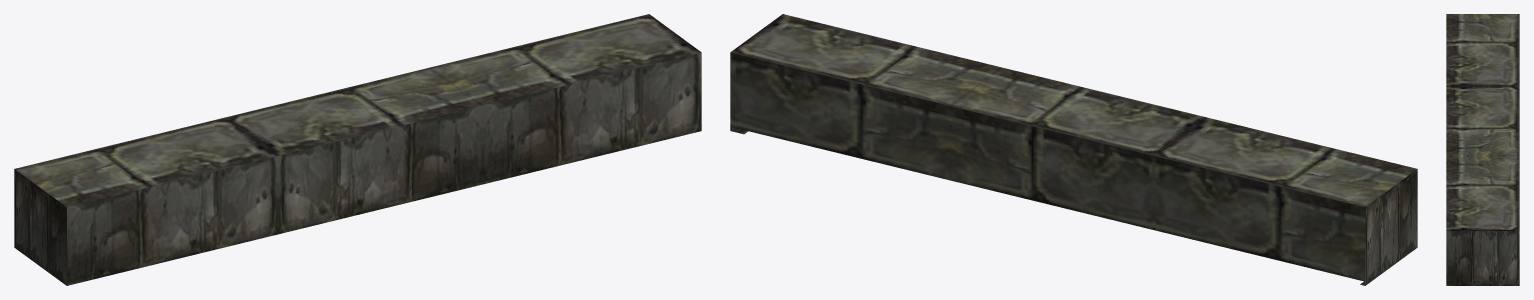
File: S_Build_Muxue069.FBX
3 renders of one model, left to right at view 1: azimuth 30°, elevation 25°; view 2: azimuth 150°, elevation 25°; view 3: azimuth 270°, elevation 25°, orthographic. The views are drawn at different scales.
Visible parts, largest first — view 1: S_Build_Muxue069; view 2: S_Build_Muxue069; view 3: S_Build_Muxue069.
Part boxes in pixels (left/top/right/bottom): S_Build_Muxue069: left=14, top=14, right=701, bottom=285; S_Build_Muxue069: left=730, top=14, right=1417, bottom=285; S_Build_Muxue069: left=1446, top=14, right=1519, bottom=285.
Bounding box in the file's own units: 917 × 109 × 131.
